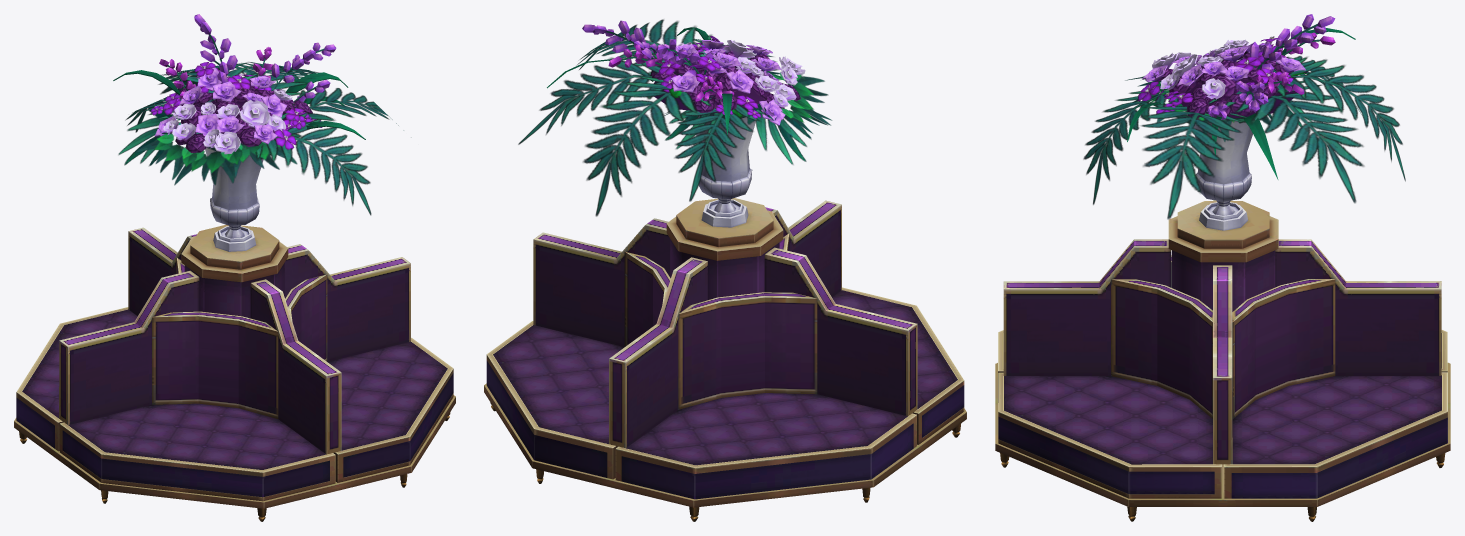
The model's file is my_gehennaparty_01_sofa_02.glb.
The picture shows the model from 3 angles, left to right: view 1: azimuth 30°, elevation 25°; view 2: azimuth 150°, elevation 25°; view 3: azimuth 270°, elevation 25°; orthographic projection. The views are drawn at different scales.
Visible parts, largest first — view 1: my_gehennaparty_01_sofa_02, my_gehennaparty_01_sofa_02_a; view 2: my_gehennaparty_01_sofa_02, my_gehennaparty_01_sofa_02_a; view 3: my_gehennaparty_01_sofa_02, my_gehennaparty_01_sofa_02_a.
Boxes of the visible parts, x1,y1,x2,y2 form: my_gehennaparty_01_sofa_02: [14, 14, 455, 521]; my_gehennaparty_01_sofa_02_a: [118, 62, 403, 215]; my_gehennaparty_01_sofa_02: [484, 20, 966, 521]; my_gehennaparty_01_sofa_02_a: [518, 19, 832, 216]; my_gehennaparty_01_sofa_02: [995, 14, 1450, 521]; my_gehennaparty_01_sofa_02_a: [1083, 55, 1405, 219].
Size of the model in its own units: 0.0172 by 0.0175 by 0.0172.
Materials: 2 (2 with a texture image).
